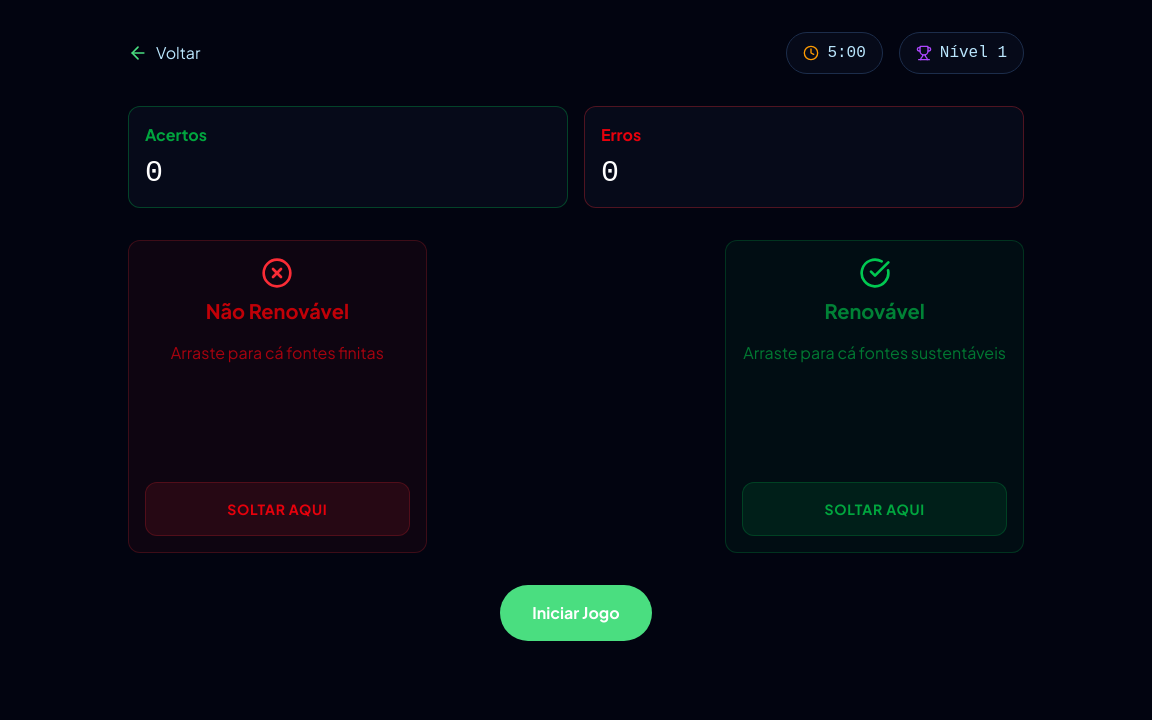
Scenario: EcoSwipe Game › handles timer expiration
The width and height of the screenshot is (1152, 720).
Click the button "Iniciar Jogo".
click(576, 613)  # box [500,585,652,641]
Wait 301000 ms
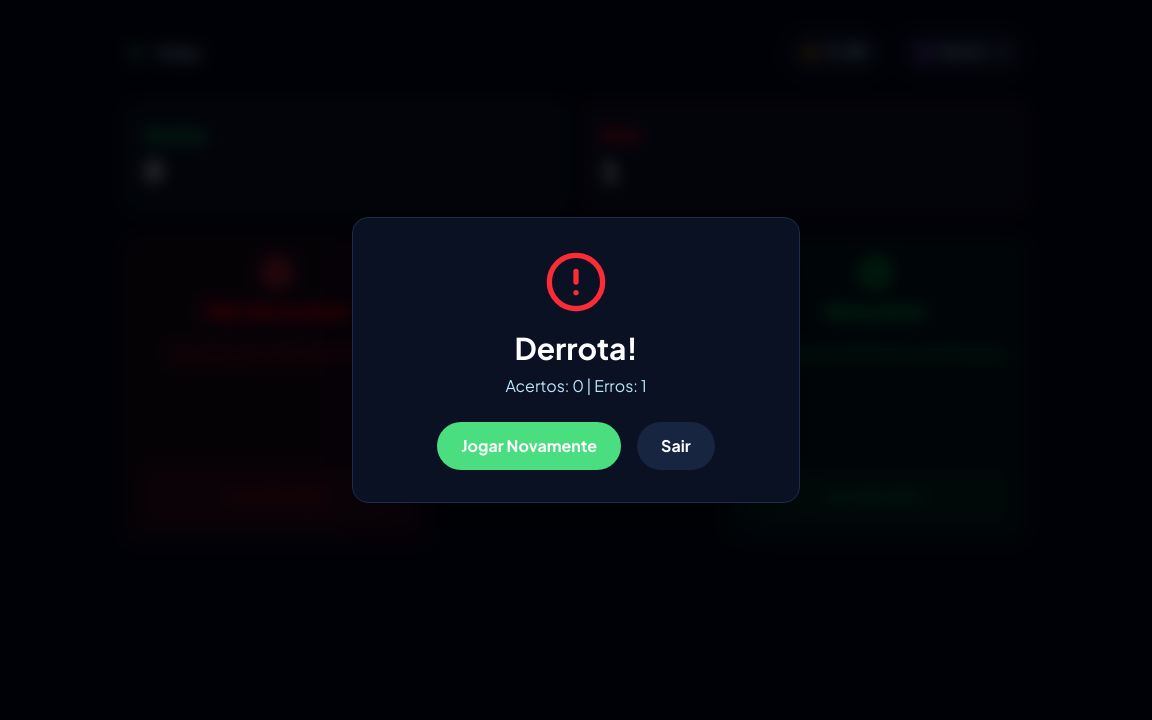
Now the heading "Derrota!" is shown, box [514,329,638,367]
